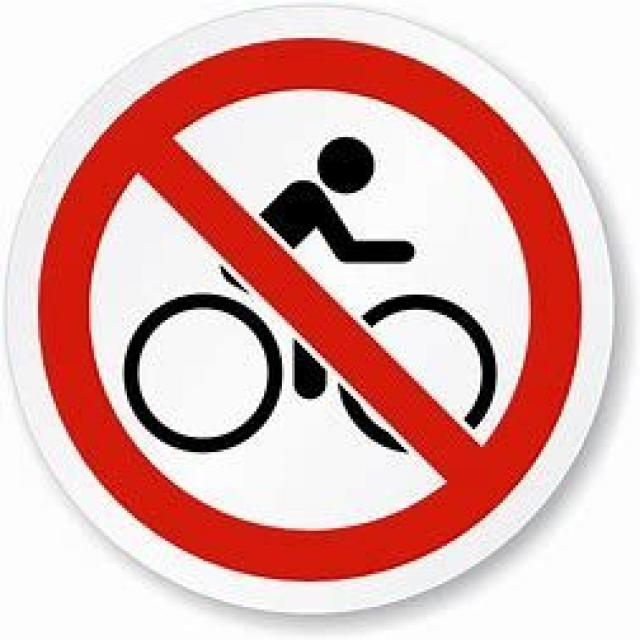CYCLE_PROHIBITED: (3, 2, 612, 610)
